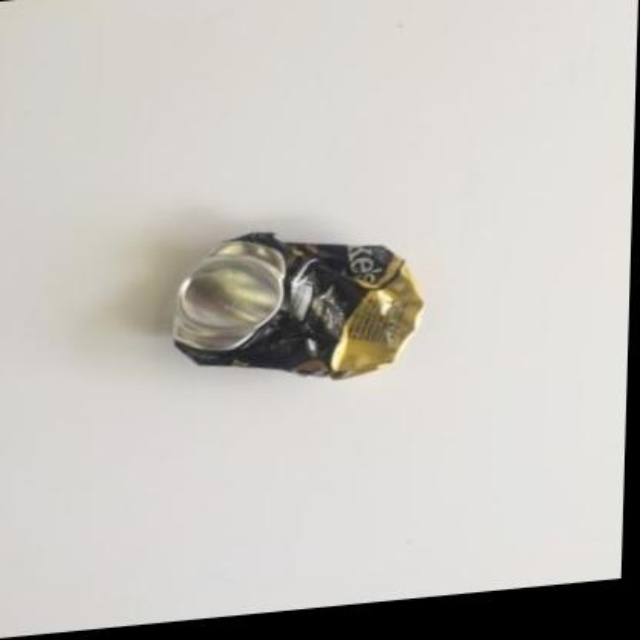trash: (172, 232, 422, 377)
